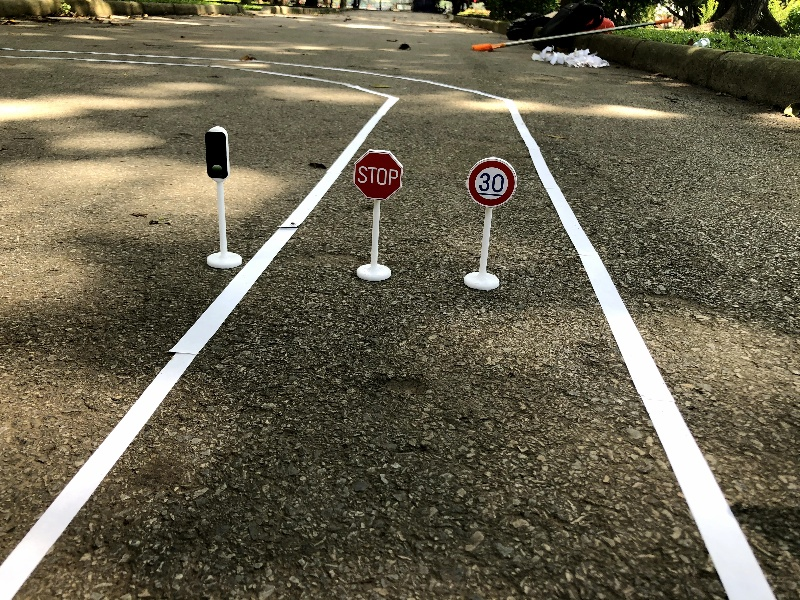Green: (199, 124, 248, 270)
Limit 30: (462, 156, 517, 291)
Stop: (352, 148, 405, 284)
